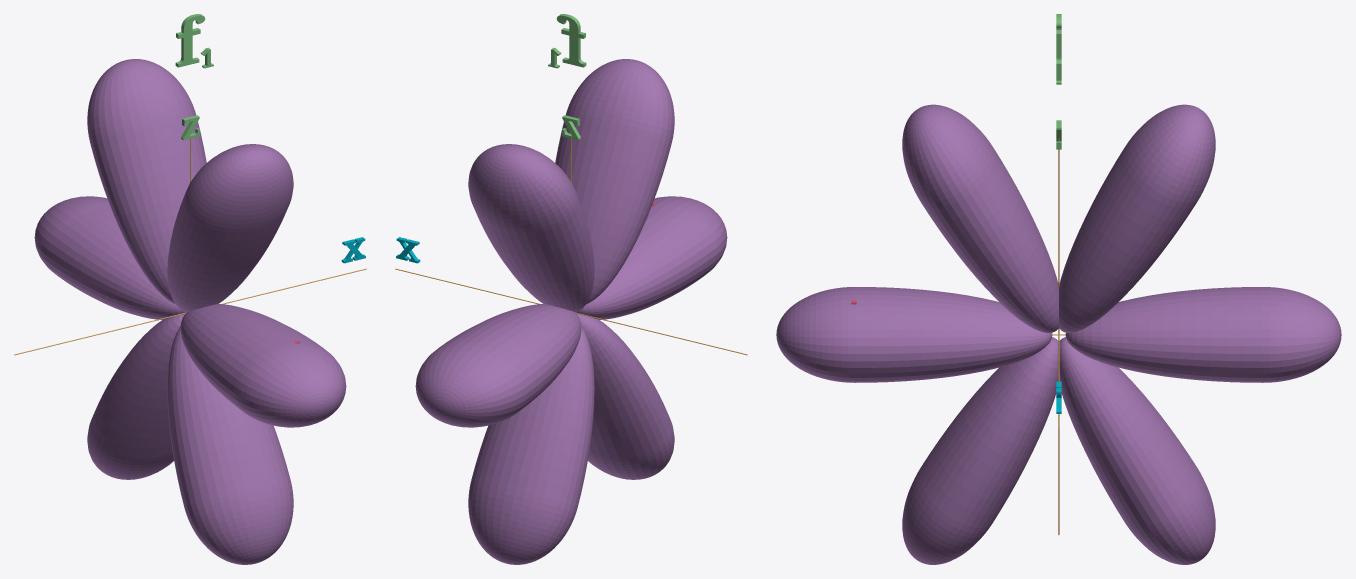
File: f1 orbital.glb
3 views of the same model, side by side, from view 1: azimuth 30°, elevation 25°; view 2: azimuth 150°, elevation 25°; view 3: azimuth 270°, elevation 25° (orthographic). The views are drawn at different scales.
Visible parts, largest first — view 1: Mesh_Mesh_head_geo.001_lambert2SG.001; view 2: Mesh_Mesh_head_geo.001_lambert2SG.001; view 3: Mesh_Mesh_head_geo.001_lambert2SG.001.
Boxes of the visible parts, x1,y1,x2,y2 form: Mesh_Mesh_head_geo.001_lambert2SG.001: (14, 14, 366, 564); Mesh_Mesh_head_geo.001_lambert2SG.001: (395, 14, 747, 564); Mesh_Mesh_head_geo.001_lambert2SG.001: (776, 14, 1341, 564).
Bounding box in the file's own units: 84 × 115 × 108.
